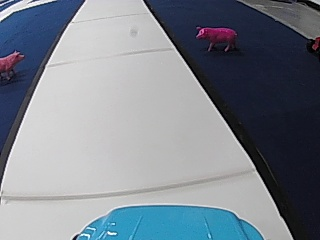pig: (191, 22, 238, 52), (0, 49, 24, 80)
